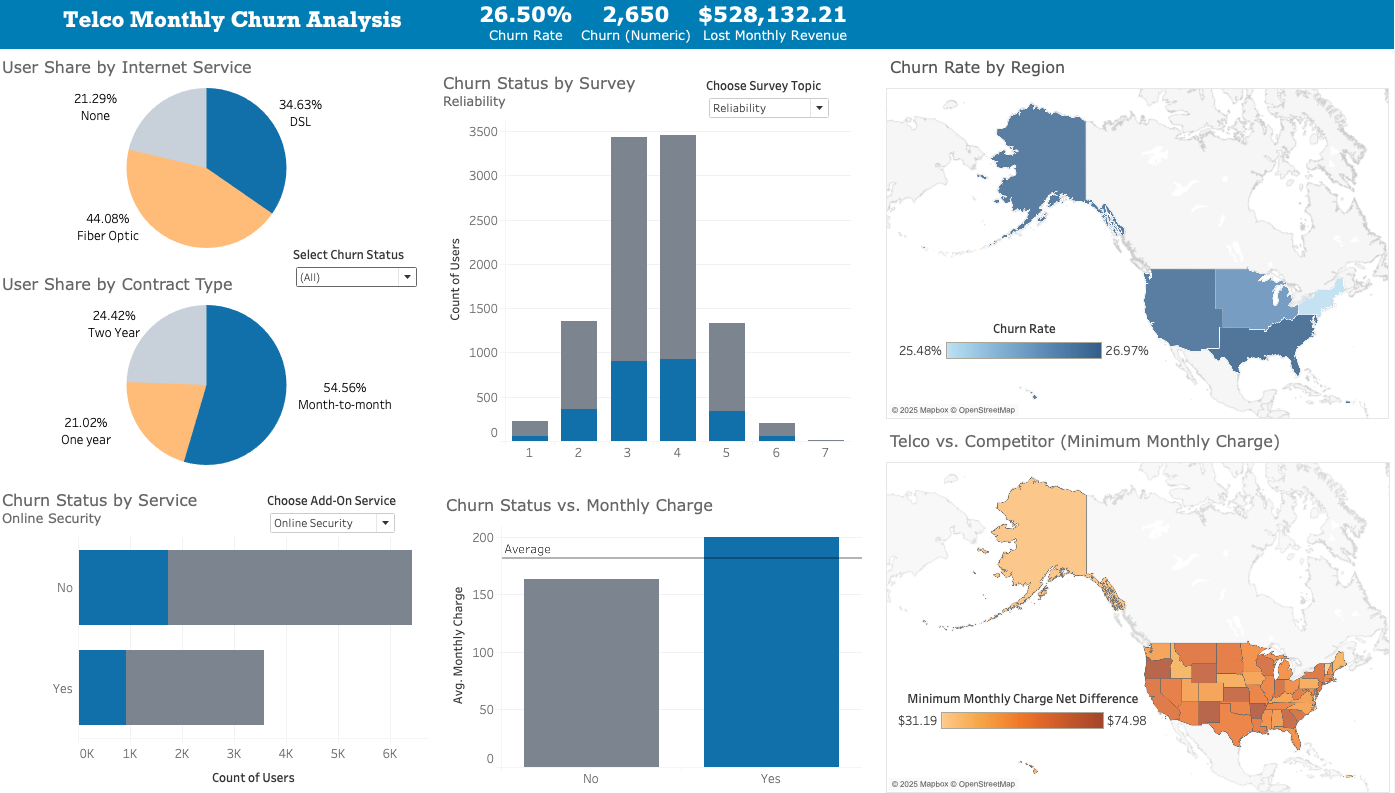

The dashboard page shown, as its layout file describes it:
{"tool":"tableau","page":{"name":"Churn Dashboard","canvas":[1400,800],"ordinal":0},"visuals":[{"type":"text","box":[0,0,477,52]},{"type":"worksheet","title":"Banner Metrics","mark":"Automatic","box":[477,0,923,52]},{"type":"worksheet","title":"User Share by Internet Service","mark":"Pie","box":[0,52,424.6,217]},{"type":"worksheet","title":"Churn Status by Survey","mark":"Automatic","rows":["CaseOrder"],"cols":["Calculation_45106402399363076"],"box":[424.6,52,452.5,433]},{"type":"blank","box":[877.1,52,11.3,748]},{"type":"worksheet","title":"Churn Rate by Region","mark":"Multipolygon","box":[888.5,52,510.5,374]},{"type":"worksheet","title":"Churn Rate by State","mark":"Automatic","box":[1399,52,1,374]},{"type":"parameter","param":"[Parameters].[Parameter 5]","box":[712,80,126,61]},{"type":"filter","title":"User Share by Internet Service","param":"[federated.01nmqoa0hhyon81e8pvd60ox2ogt].[none:Churn:nk]","box":[299,249,127,89]},{"type":"worksheet","title":"User Share by Contract Type","mark":"Pie","box":[0,269,424.6,203]},{"type":"legend","title":"Churn Rate by Region","param":"[federated.01nmqoa0hhyon81e8pvd60ox2ogt].[usr:Calculation_58476462611853314:qk]","box":[897,319,267,60]},{"type":"worksheet","title":"Telco vs. Competitor (Minimum Monthly Charge)","mark":"Multipolygon","box":[888.5,426,511.5,374]},{"type":"worksheet","title":"Churn Status by Service","mark":"Automatic","rows":["Calculation_45106402395516931"],"cols":["CaseOrder"],"box":[0,485,439,315]},{"type":"worksheet","title":"Churn Status vs. Monthly Charge","mark":"Automatic","rows":["MonthlyCharge"],"cols":["Churn"],"box":[439,485,438,315]},{"type":"parameter","param":"[Parameters].[Parameter 4]","box":[273,495,131,44]},{"type":"legend","title":"Telco vs. Competitor (Minimum Monthly Charge)","param":"[federated.01nmqoa0hhyon81e8pvd60ox2ogt].[usr:Calculation_45106402384044032:qk]","box":[900,693,258,40]}]}

Visuals, with their boxes in screenshot pixels (x1, y1, x2, y2), scaled from the page's 1400x800 canvas onto the 1395x793 screenshot:
text: 0,0,475,52
"Banner Metrics" worksheet: 475,0,1394,52
"User Share by Internet Service" worksheet (Pie marks): 0,52,423,267
"Churn Status by Survey" worksheet: 423,52,874,481
blank: 874,52,885,792
"Churn Rate by Region" worksheet (Multipolygon marks): 885,52,1394,422
parameter: 709,79,835,140
"User Share by Internet Service" filter: 298,247,424,335
"User Share by Contract Type" worksheet (Pie marks): 0,267,423,468
"Churn Rate by Region" legend: 894,316,1160,376
"Telco vs. Competitor (Minimum Monthly Charge)" worksheet (Multipolygon marks): 885,422,1394,792
"Churn Status by Service" worksheet: 0,481,437,792
"Churn Status vs. Monthly Charge" worksheet: 437,481,874,792
parameter: 272,491,403,534
"Telco vs. Competitor (Minimum Monthly Charge)" legend: 897,687,1154,727
